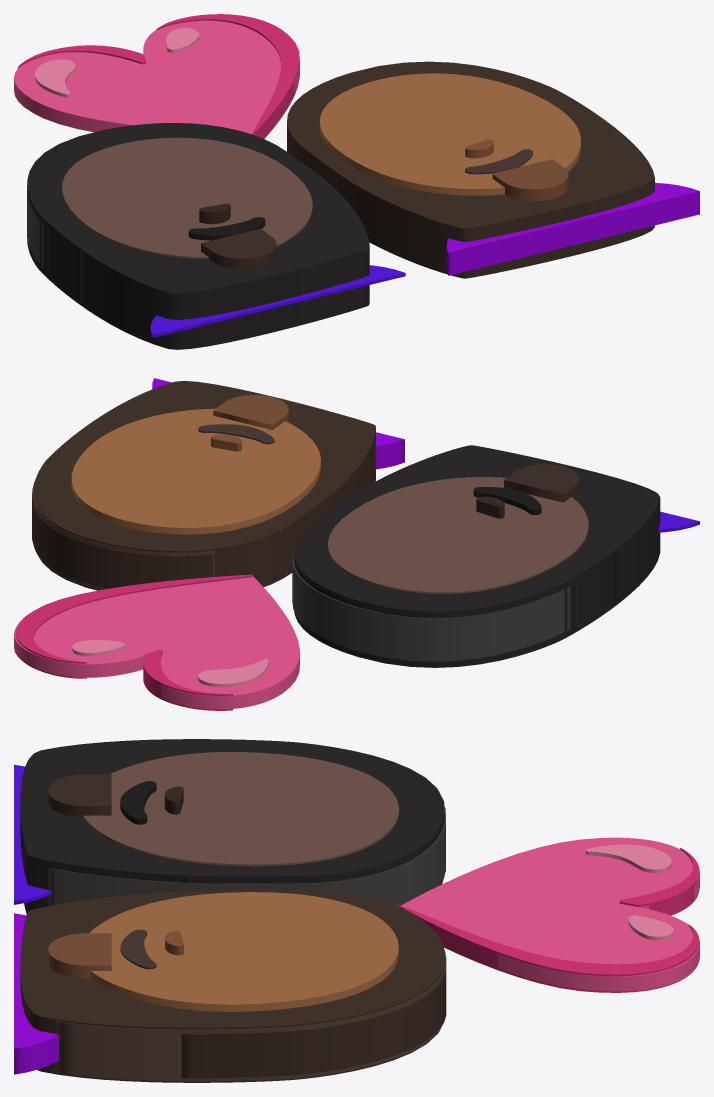
File: emoji_u1f469_1f3ff_200d_2764_200d_1f469_1f3fe.glb
3 renders of one model, top to bottom at view 1: azimuth 30°, elevation 25°; view 2: azimuth 150°, elevation 25°; view 3: azimuth 270°, elevation 25°, orthographic. The views are drawn at different scales.
Visible parts, largest first — view 1: emoji_u1f469_1f3ff_200d_2764_200d_1f469_1f3fe; view 2: emoji_u1f469_1f3ff_200d_2764_200d_1f469_1f3fe; view 3: emoji_u1f469_1f3ff_200d_2764_200d_1f469_1f3fe.
Part boxes in pixels (x1=…): emoji_u1f469_1f3ff_200d_2764_200d_1f469_1f3fe: x1=14, y1=14, x2=699, y2=349; emoji_u1f469_1f3ff_200d_2764_200d_1f469_1f3fe: x1=14, y1=378, x2=699, y2=710; emoji_u1f469_1f3ff_200d_2764_200d_1f469_1f3fe: x1=14, y1=739, x2=699, y2=1082.
Size of the model in its own units: 0.0345 by 0.005 by 0.0338.
